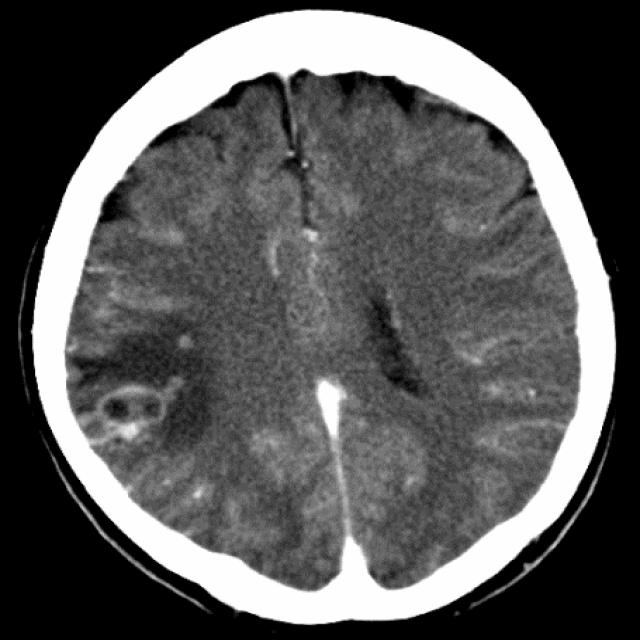Tumor: (91, 388, 170, 437)
